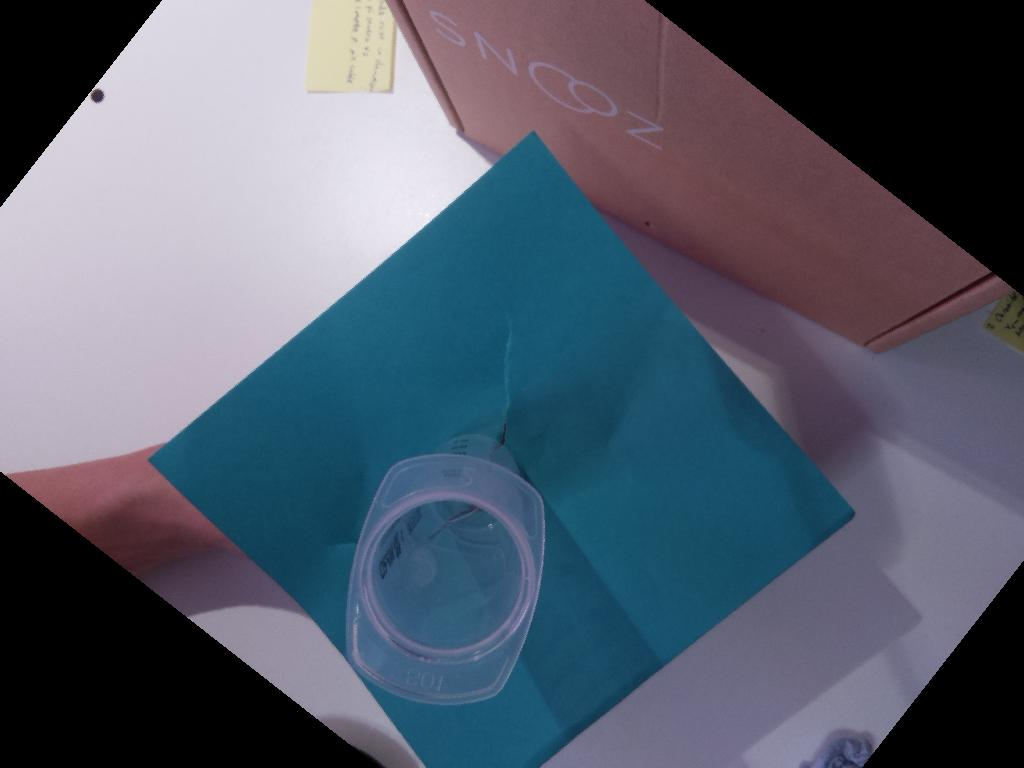clean: (344, 451, 549, 706)
